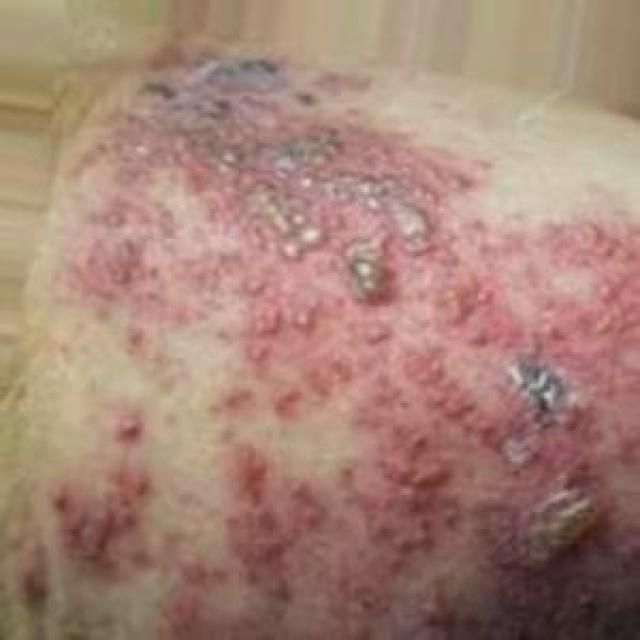Shingles: (70, 69, 640, 594)
